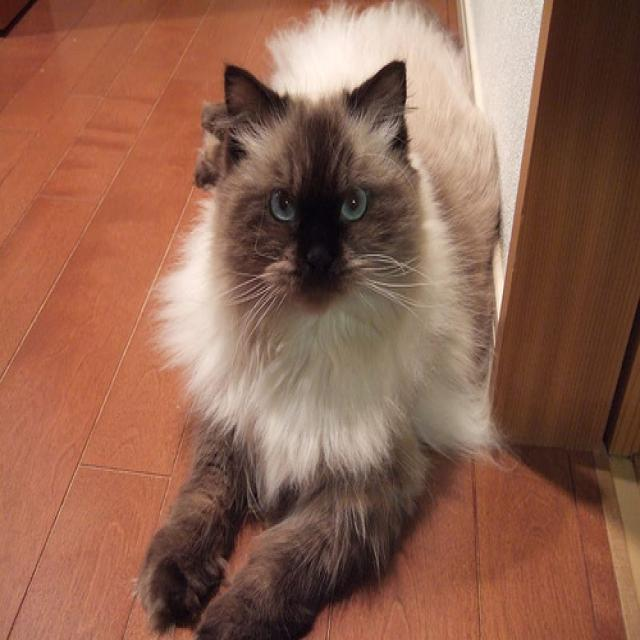left eye: (338, 182, 369, 222)
